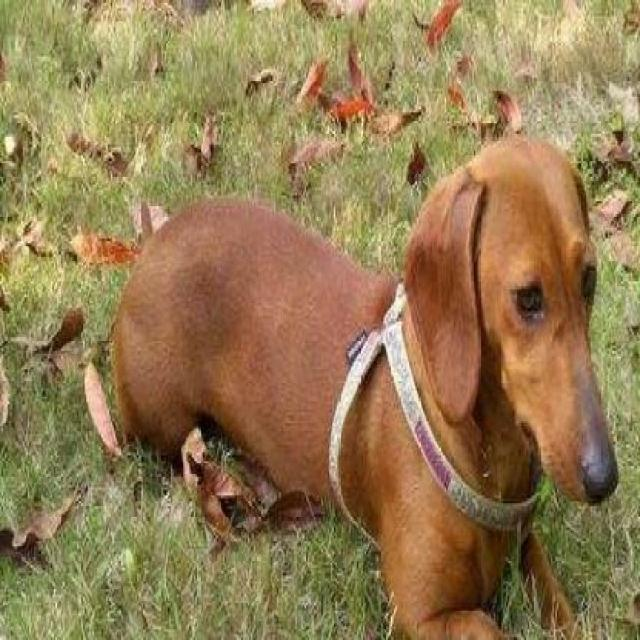Dog: (105, 126, 620, 637)
